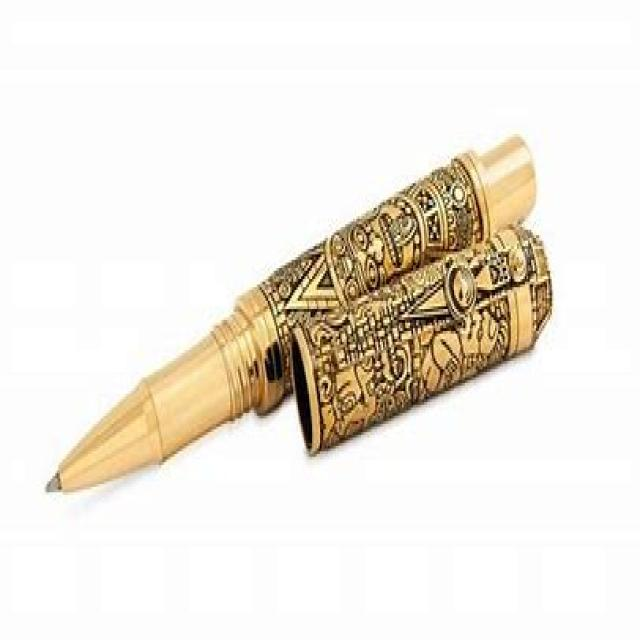pen: (46, 132, 554, 498)
